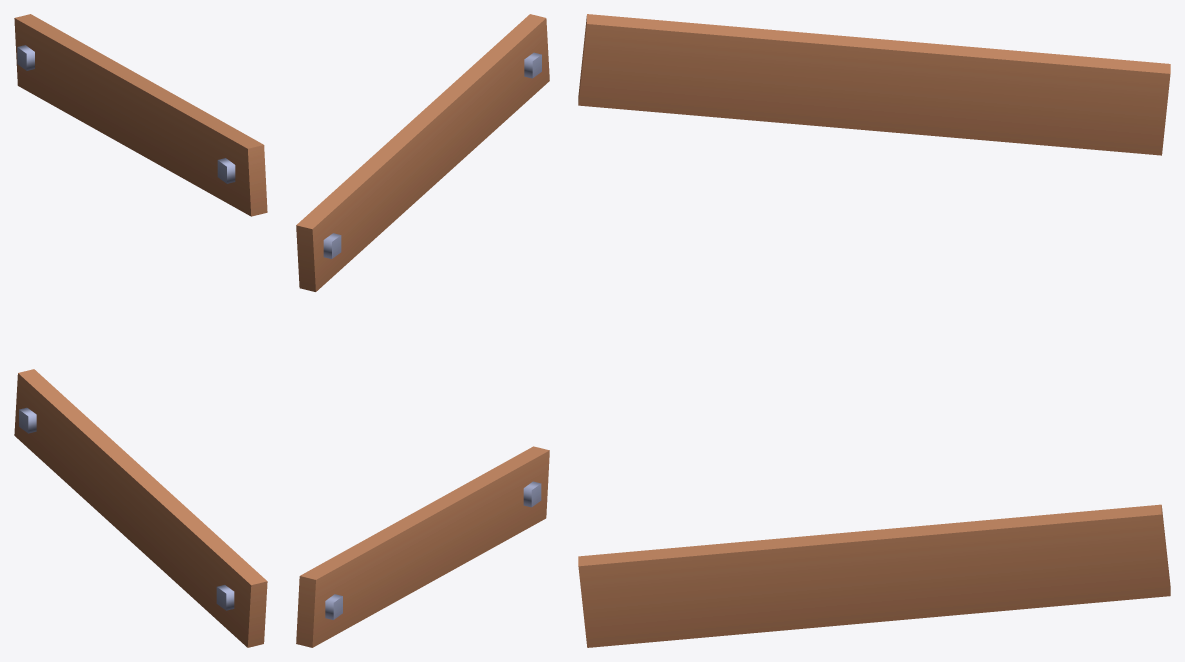
Rendered from barricade-doorway-a.optimized.glb.
3 renders of one model, left to right at view 1: azimuth 30°, elevation 25°; view 2: azimuth 150°, elevation 25°; view 3: azimuth 270°, elevation 25°, orthographic. The views are drawn at different scales.
Visible parts, largest first — view 1: barricade-doorway-a; view 2: barricade-doorway-a; view 3: barricade-doorway-a.
Boxes of the visible parts, x1,y1,x2,y2 form: barricade-doorway-a: (14, 14, 267, 647); barricade-doorway-a: (296, 14, 549, 647); barricade-doorway-a: (578, 14, 1170, 647).
Bounding box in the file's own units: 0.075 × 1.46 × 1.26.
Materials: 1 (1 with a texture image).
